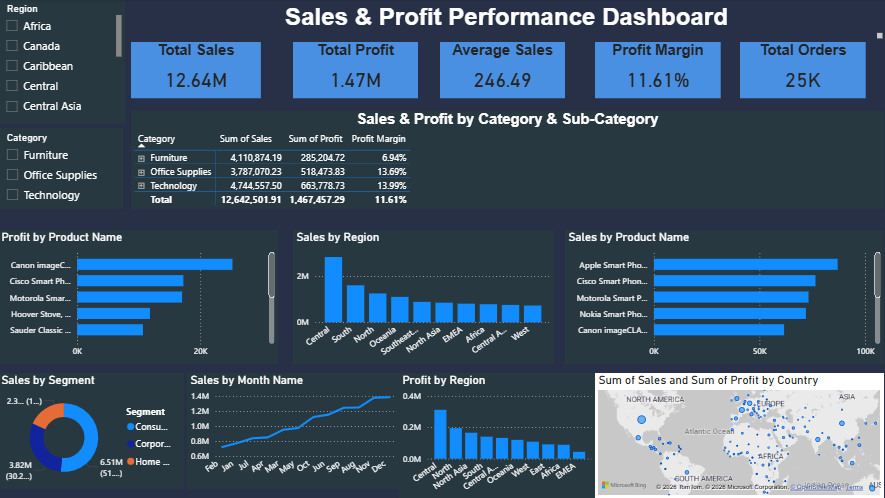

The page's visual inventory and layout, read from the dashboard file:
{"tool":"powerbi","page":{"name":"Page 1","canvas":[1280,720],"ordinal":0},"visuals":[{"type":"card","title":"Total Sales","fields":{"Values":["Sum(Global_Superstore2.Sales)"]},"box":[191.5,61.9,187.2,80.6],"z":0},{"type":"card","title":"Total Profit","fields":{"Values":["Sum(Global_Superstore2.Profit)"]},"box":[424.8,61.9,180,80.6],"z":1000},{"type":"card","title":"Total Orders","fields":{"Values":["Global_Superstore2.Total Orders"]},"box":[1068.5,61.9,181.4,80.6],"z":2000},{"type":"card","title":"Average Sales","fields":{"Values":["Avg(Global_Superstore2.Sales)"]},"box":[636.5,61.9,180,80.6],"z":3000},{"type":"clusteredColumnChart","title":"Sales by Region","fields":{"Category":["Global_Superstore2.Region"],"Y":["Sum(Global_Superstore2.Sales)"]},"box":[424.8,332.6,375.8,193],"z":4000},{"type":"clusteredBarChart","title":"Sales by Product Name","fields":{"Category":["Global_Superstore2.Product Name"],"Y":["Sum(Global_Superstore2.Sales)"]},"box":[816.5,332.6,459.4,193],"z":5000},{"type":"donutChart","title":" Sales by Segment","fields":{"Category":["Global_Superstore2.Segment"],"Y":["Sum(Global_Superstore2.Sales)"]},"box":[0,538.6,267.8,167],"z":6000},{"type":"clusteredColumnChart","title":"Profit by Region","fields":{"Y":["Sum(Global_Superstore2.Profit)"],"Category":["Global_Superstore2.Region"]},"box":[577.4,538.6,282.2,181.4],"z":7000},{"type":"clusteredBarChart","title":"Profit by Product Name","fields":{"Category":["Global_Superstore2.Product Name"],"Y":["Sum(Global_Superstore2.Profit)"]},"box":[0,332.6,403.2,193],"z":8000},{"type":"lineChart","title":"Sales by Month Name","fields":{"Y":["Sum(Global_Superstore2.Sales)"],"Category":["Global_Superstore2.Month Name"]},"box":[272.2,538.6,305.3,167],"z":9000},{"type":"card","title":"Profit Margin","fields":{"Values":["Global_Superstore2.Profit Margin"]},"box":[859.7,61.9,181.4,80.6],"z":10000},{"type":"pivotTable","title":"Sales & Profit by Category & Sub-Category","fields":{"Rows":["Global_Superstore2.Category","Global_Superstore2.Sub-Category"],"Values":["Sum(Global_Superstore2.Sales)","Sum(Global_Superstore2.Profit)","Global_Superstore2.Profit Margin"]},"box":[191.5,161.3,1084.3,141.1],"z":12000},{"type":"slicer","fields":{"Values":["Global_Superstore2.Region"]},"box":[0,0,182.9,178.6],"z":13000},{"type":"slicer","fields":{"Values":["Global_Superstore2.Category"]},"box":[0,185.8,180,116.6],"z":14000},{"type":"map","fields":{"Category":["Global_Superstore2.Country"],"Size":["Sum(Global_Superstore2.Sales)"]},"box":[859,539,416,181],"z":14001}]}

Visuals, with their boxes in screenshot pixels (x1, y1, x2, y2), scaled from the page's 1280x720 canvas onto the 885x498 screenshot:
"Total Sales" card: box(132, 43, 262, 99)
"Total Profit" card: box(294, 43, 418, 99)
"Total Orders" card: box(739, 43, 864, 99)
"Average Sales" card: box(440, 43, 565, 99)
"Sales by Region" clusteredColumnChart: box(294, 230, 554, 364)
"Sales by Product Name" clusteredBarChart: box(565, 230, 882, 364)
" Sales by Segment" donutChart: box(0, 373, 185, 488)
"Profit by Region" clusteredColumnChart: box(399, 373, 594, 497)
"Profit by Product Name" clusteredBarChart: box(0, 230, 279, 364)
"Sales by Month Name" lineChart: box(188, 373, 399, 488)
"Profit Margin" card: box(594, 43, 720, 99)
"Sales & Profit by Category & Sub-Category" pivotTable: box(132, 112, 882, 209)
slicer - Global_Superstore2.Region: box(0, 0, 126, 124)
slicer - Global_Superstore2.Category: box(0, 129, 124, 209)
map - Global_Superstore2.Country x Sum(Global_Superstore2.Sales): box(594, 373, 882, 497)
